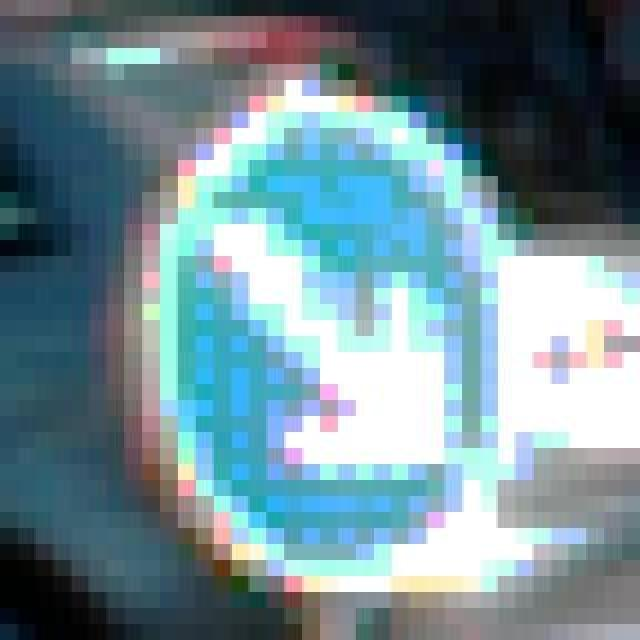keep right: (106, 64, 498, 608)
